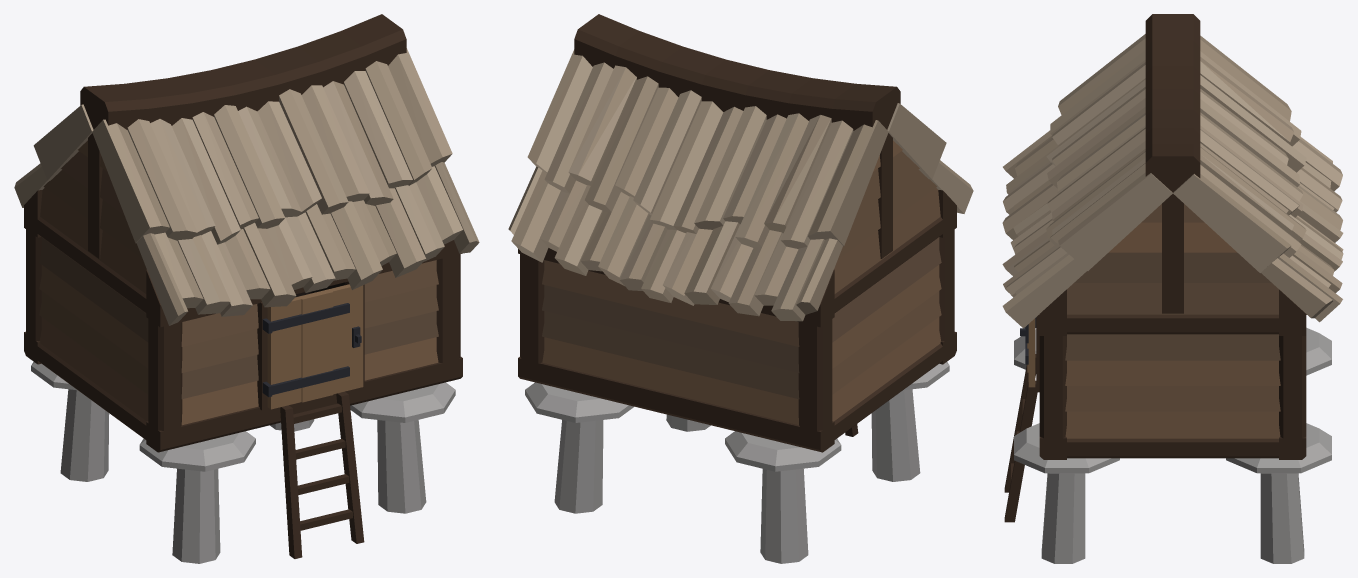
The model's file is stilted-granary.glb.
The picture shows the model from 3 angles, left to right: view 1: azimuth 30°, elevation 25°; view 2: azimuth 150°, elevation 25°; view 3: azimuth 270°, elevation 25°; orthographic projection. The views are drawn at different scales.
Parts seen in each view (by area): view 1: granary-shell, door-leaf, ladder-mesh; view 2: granary-shell; view 3: granary-shell, ladder-mesh, door-leaf.
Boxes of the visible parts, x1,y1,x2,y2 form: granary-shell: (14, 14, 479, 563); door-leaf: (262, 284, 363, 409); ladder-mesh: (280, 391, 364, 558); granary-shell: (508, 14, 973, 563); granary-shell: (1002, 14, 1343, 563); ladder-mesh: (1004, 354, 1037, 522); door-leaf: (1020, 317, 1036, 387).
Size of the model in its own units: 2 by 2.71 by 1.99.
